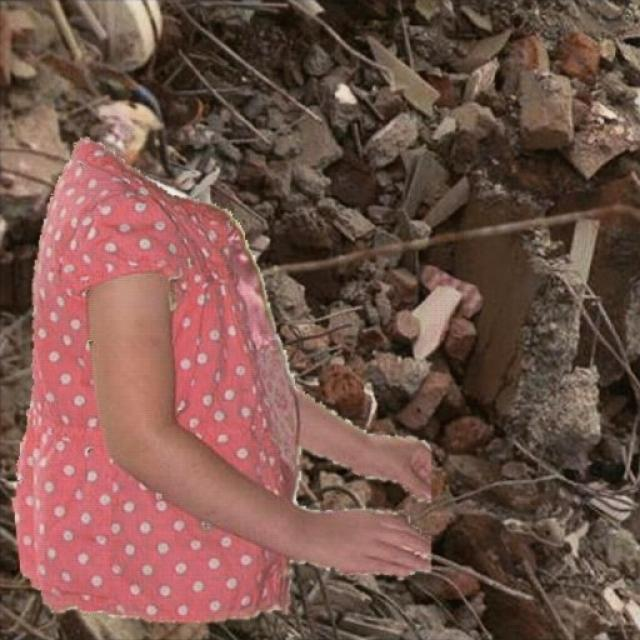Person in Rubble: (11, 136, 430, 622)
